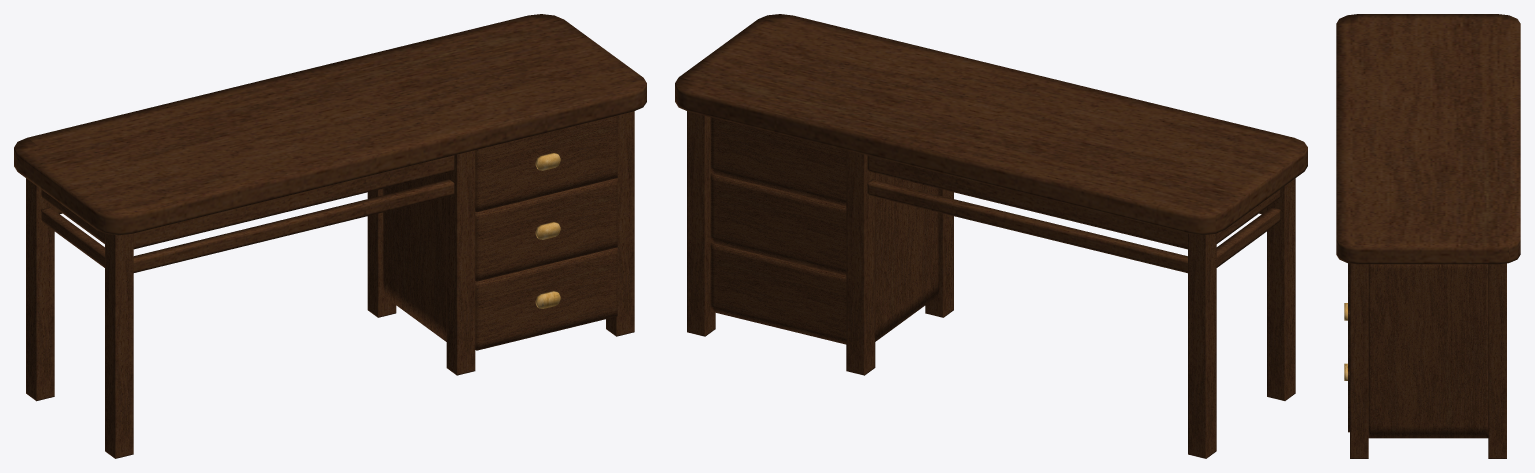
File: desk.fbx
The picture shows the model from 3 angles, left to right: view 1: azimuth 30°, elevation 25°; view 2: azimuth 150°, elevation 25°; view 3: azimuth 270°, elevation 25°; orthographic projection. The views are drawn at different scales.
Visible parts, largest first — view 1: Base.001, Drawer.Base.002, Drawer.Base.001, Drawer.Base.003, Ext.006, Leg.001, Leg.003, Leg.002, Ext.005, Ext.002, Leg.005, Leg.004 (+1 smaller); view 2: Base.001, Drawer.Base.002, Drawer.Base.001, Ext.006, Drawer.Base.003, Leg.002, Leg.004, Leg.001, Ext.008, Leg.006, Ext.003, Leg.003 (+1 smaller); view 3: Base.001, Ext.007, Leg.006, Leg.005.
Boxes of the visible parts, x1,y1,x2,y2 form: Base.001: [14, 14, 646, 235]; Drawer.Base.002: [475, 178, 617, 281]; Drawer.Base.001: [475, 247, 617, 350]; Drawer.Base.003: [475, 115, 617, 212]; Ext.006: [382, 173, 446, 341]; Leg.001: [105, 233, 133, 458]; Leg.003: [446, 150, 475, 375]; Leg.002: [26, 178, 54, 401]; Ext.005: [133, 179, 454, 272]; Ext.002: [133, 155, 454, 249]; Leg.005: [606, 111, 634, 336]; Leg.004: [367, 188, 396, 317]; Base.001: [675, 14, 1307, 235]; Drawer.Base.002: [710, 173, 846, 275]; Drawer.Base.001: [710, 242, 846, 344]; Ext.006: [875, 173, 938, 341]; Drawer.Base.003: [710, 117, 846, 205]; Leg.002: [1188, 233, 1216, 458]; Leg.004: [846, 150, 875, 375]; Leg.001: [1267, 178, 1295, 400]; Ext.008: [867, 179, 1187, 273]; Leg.006: [687, 111, 715, 336]; Ext.003: [867, 155, 1187, 249]; Leg.003: [925, 189, 953, 317]; Base.001: [1336, 14, 1520, 264]; Ext.007: [1368, 264, 1488, 438]; Leg.006: [1488, 263, 1506, 458]; Leg.005: [1350, 263, 1368, 458].
Size of the model in its own units: 120 by 51.99 by 40.
